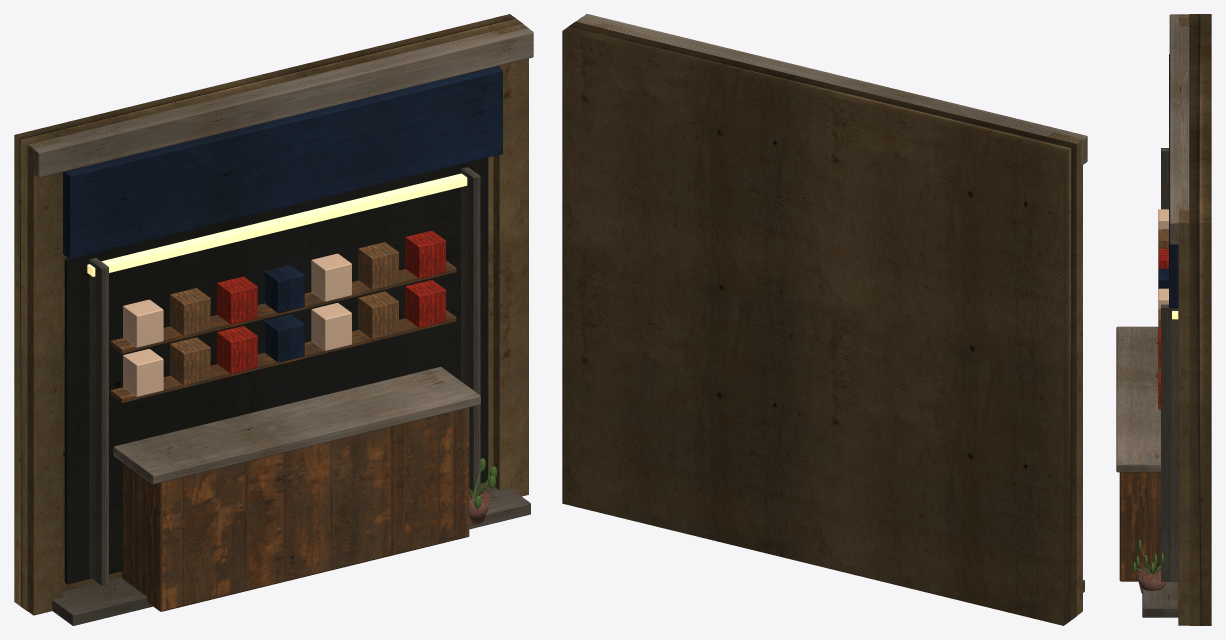
File: mat_tien_tret_01.glb
3 renders of one model, left to right at view 1: azimuth 30°, elevation 25°; view 2: azimuth 150°, elevation 25°; view 3: azimuth 270°, elevation 25°, orthographic. The views are drawn at different scales.
Visible parts, largest first — view 1: mat_tien_tret_01.001; view 2: mat_tien_tret_01.001; view 3: mat_tien_tret_01.001.
Part boxes in pixels (x1=…): mat_tien_tret_01.001: x1=14, y1=14, x2=533, y2=625; mat_tien_tret_01.001: x1=562, y1=14, x2=1087, y2=625; mat_tien_tret_01.001: x1=1116, y1=14, x2=1211, y2=625.
Size of the model in its own units: 4 by 3.6 by 0.77.
2 materials, 2 textured.
